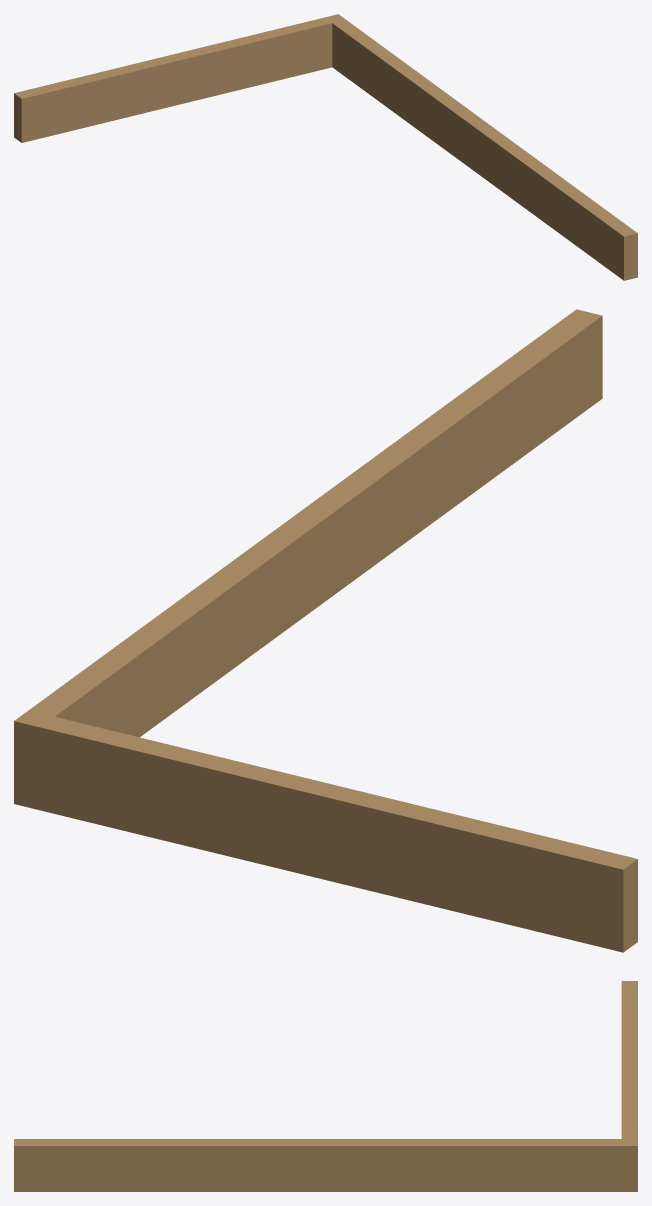
File: PorchWalls.fbx
3 views of the same model, one above another, from view 1: azimuth 30°, elevation 25°; view 2: azimuth 150°, elevation 25°; view 3: azimuth 270°, elevation 25° (orthographic). The views are drawn at different scales.
Parts seen in each view (by area): view 1: PorchWalls; view 2: PorchWalls; view 3: PorchWalls.
Part boxes in pixels (left/top/right/bottom): PorchWalls: left=14, top=14, right=637, bottom=280; PorchWalls: left=14, top=309, right=637, bottom=952; PorchWalls: left=14, top=981, right=637, bottom=1191.
Size of the model in its own units: 7638 by 993 by 12214.
